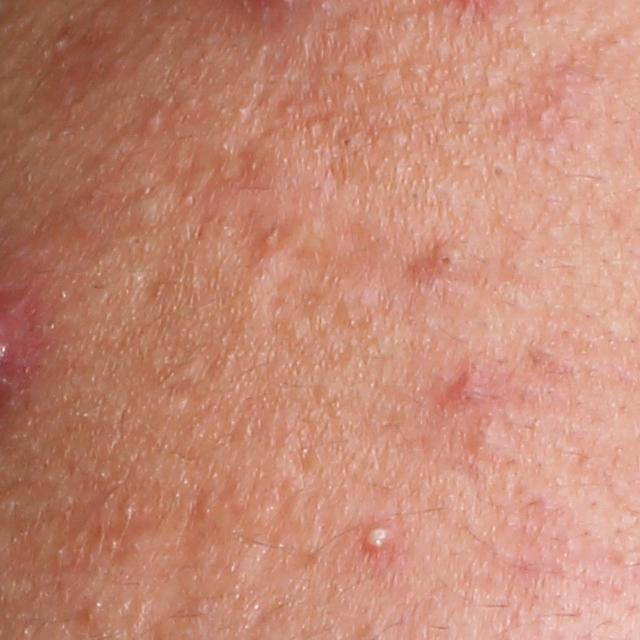comedo: (132, 187, 183, 231), (525, 101, 561, 136), (428, 243, 462, 273), (474, 420, 505, 452), (336, 128, 361, 154), (169, 388, 192, 413), (489, 160, 511, 186)
papule: (446, 370, 495, 412)
pustule: (346, 514, 400, 564)
